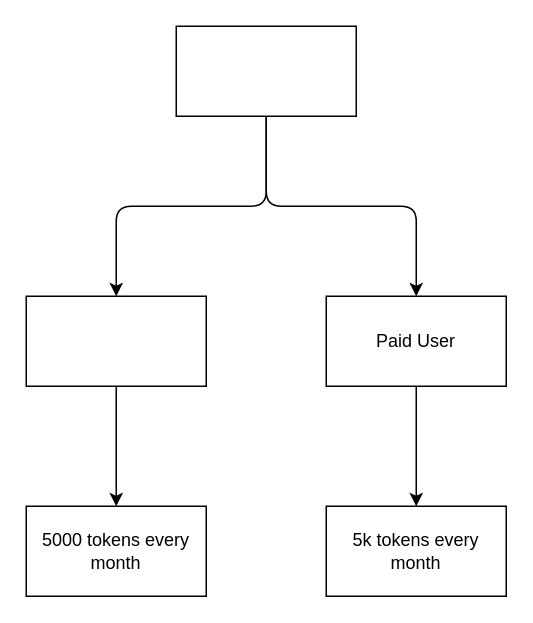
The diagram is 533 pixels wide and 623 high, and some of its shapes have lost their labels. The centre of each missing label's shape, as x and y in pixels:
"Free user" goes at point (115, 340).
"user" goes at point (265, 70).
